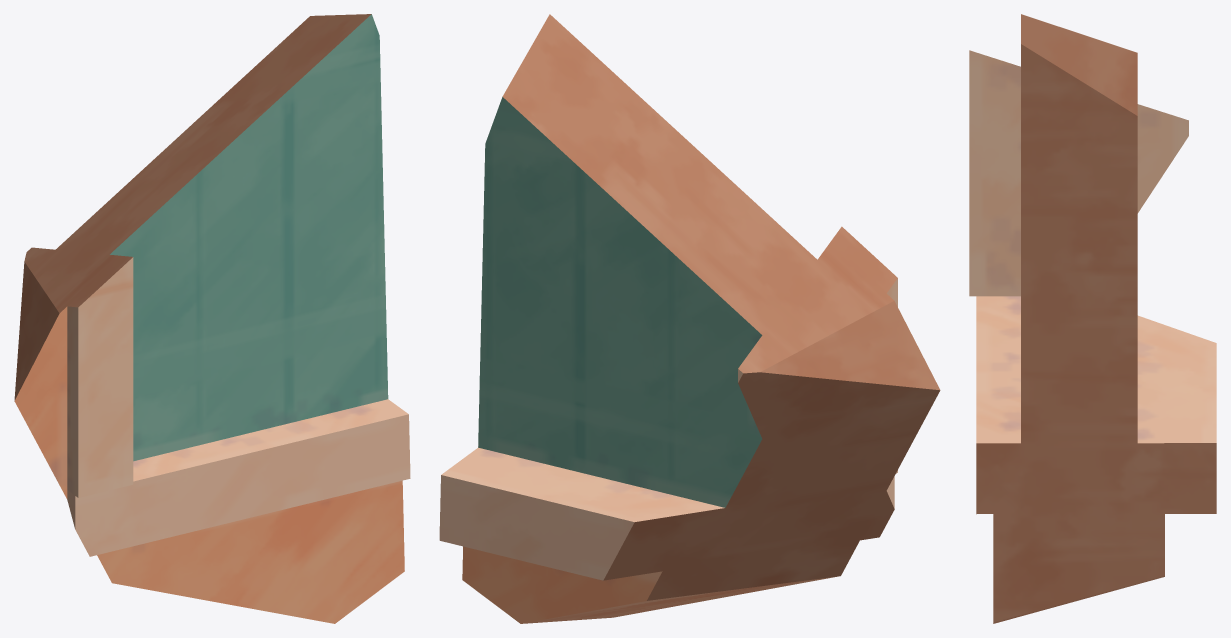
The model's file is wall2_upper_shutter_s09.fbx.
The picture shows the model from 3 angles, left to right: view 1: azimuth 30°, elevation 25°; view 2: azimuth 150°, elevation 25°; view 3: azimuth 270°, elevation 25°; orthographic projection. The views are drawn at different scales.
Visible parts, largest first — view 1: wall2_upper_shutter_s09; view 2: wall2_upper_shutter_s09; view 3: wall2_upper_shutter_s09.
Part boxes in pixels (x1,y1,x2,y2): wall2_upper_shutter_s09: (14, 14, 410, 623); wall2_upper_shutter_s09: (439, 14, 940, 623); wall2_upper_shutter_s09: (969, 14, 1216, 623).
Size of the model in its own units: 2.84 by 4.09 by 1.44.
